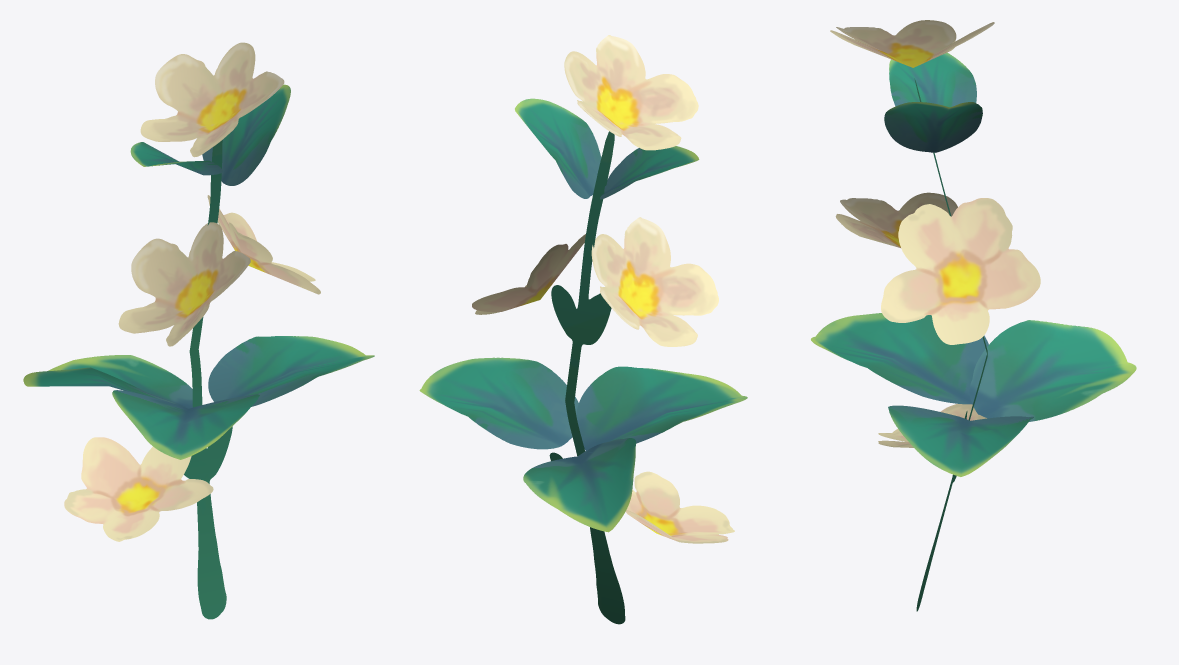
Rendered from model-leaf-waffles-2.fbx.
The picture shows the model from 3 angles, left to right: view 1: azimuth 30°, elevation 25°; view 2: azimuth 150°, elevation 25°; view 3: azimuth 270°, elevation 25°; orthographic projection. The views are drawn at different scales.
Parts seen in each view (by area): view 1: model-leaf-waffles-2; view 2: model-leaf-waffles-2; view 3: model-leaf-waffles-2.
Boxes of the visible parts, bbox=[...] form: model-leaf-waffles-2: bbox=[23, 42, 374, 619]; model-leaf-waffles-2: bbox=[419, 35, 747, 624]; model-leaf-waffles-2: bbox=[811, 20, 1136, 611].
Bounding box in the file's own units: 0.2104 × 0.3688 × 0.1912.
